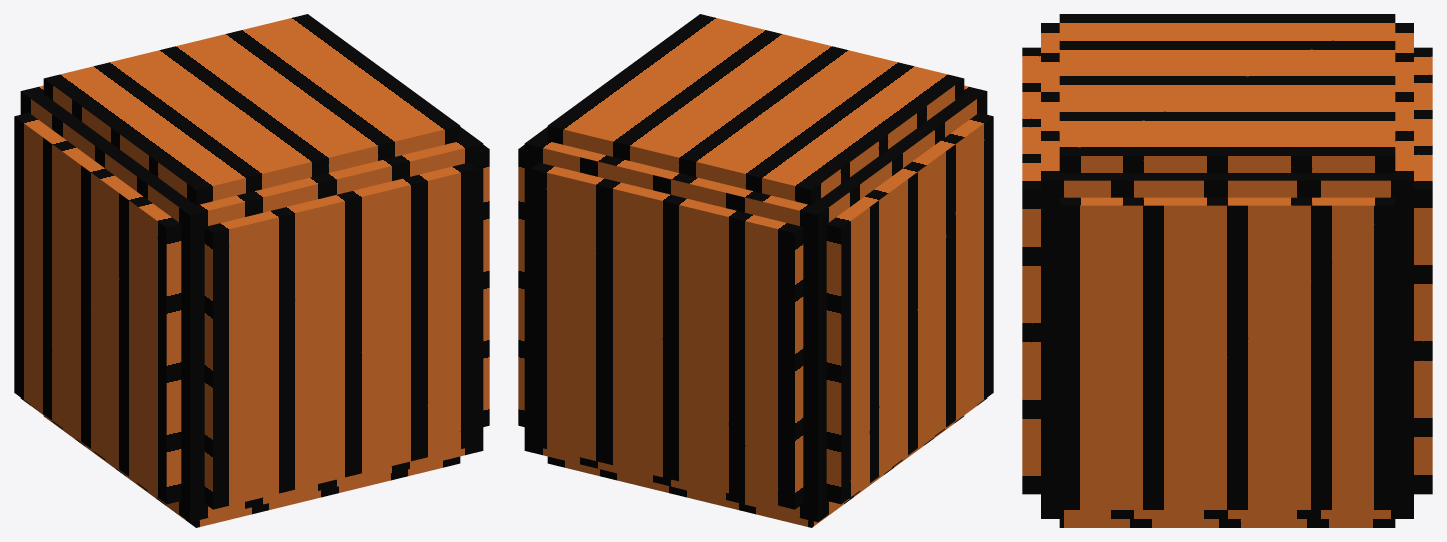
The picture shows the model from 3 angles, left to right: view 1: azimuth 30°, elevation 25°; view 2: azimuth 150°, elevation 25°; view 3: azimuth 270°, elevation 25°; orthographic projection. The views are drawn at different scales.
Visible parts, largest first — view 1: 46310ce6-0090-29da-2c45-68f924dabc51, 73764fa6-75b9-6fe9-bd2f-9edddea83ac4, 6acc0fb2-7f3f-5a4f-002c-e7ccaba8883f, 7a0d48c4-f3f0-e04f-9e3e-693328f9aa65, 921b7654-6468-6b42-08cd-32c1223ebb15, 8442a8ef-1a82-1a3a-1071-af40f7cec99f; view 2: 84be3d6f-64d2-bcd2-365b-f25e3a637cf4, 73764fa6-75b9-6fe9-bd2f-9edddea83ac4, 6acc0fb2-7f3f-5a4f-002c-e7ccaba8883f, 7a0d48c4-f3f0-e04f-9e3e-693328f9aa65, 921b7654-6468-6b42-08cd-32c1223ebb15, 8442a8ef-1a82-1a3a-1071-af40f7cec99f; view 3: 8442a8ef-1a82-1a3a-1071-af40f7cec99f, 6acc0fb2-7f3f-5a4f-002c-e7ccaba8883f, 7a0d48c4-f3f0-e04f-9e3e-693328f9aa65, 46310ce6-0090-29da-2c45-68f924dabc51, 84be3d6f-64d2-bcd2-365b-f25e3a637cf4, 921b7654-6468-6b42-08cd-32c1223ebb15.
Part boxes in pixels (box(x1,y1,x2,y2)): 46310ce6-0090-29da-2c45-68f924dabc51: box(204, 162, 477, 509); 73764fa6-75b9-6fe9-bd2f-9edddea83ac4: box(14, 113, 181, 504); 6acc0fb2-7f3f-5a4f-002c-e7ccaba8883f: box(43, 14, 460, 205); 7a0d48c4-f3f0-e04f-9e3e-693328f9aa65: box(20, 85, 483, 522); 921b7654-6468-6b42-08cd-32c1223ebb15: box(43, 415, 460, 527); 8442a8ef-1a82-1a3a-1071-af40f7cec99f: box(483, 145, 489, 426); 84be3d6f-64d2-bcd2-365b-f25e3a637cf4: box(530, 162, 803, 509); 73764fa6-75b9-6fe9-bd2f-9edddea83ac4: box(826, 113, 993, 504); 6acc0fb2-7f3f-5a4f-002c-e7ccaba8883f: box(547, 14, 964, 205); 7a0d48c4-f3f0-e04f-9e3e-693328f9aa65: box(524, 85, 987, 522); 921b7654-6468-6b42-08cd-32c1223ebb15: box(547, 415, 964, 527); 8442a8ef-1a82-1a3a-1071-af40f7cec99f: box(518, 145, 524, 426); 8442a8ef-1a82-1a3a-1071-af40f7cec99f: box(1059, 197, 1395, 509); 6acc0fb2-7f3f-5a4f-002c-e7ccaba8883f: box(1059, 14, 1395, 172); 7a0d48c4-f3f0-e04f-9e3e-693328f9aa65: box(1041, 23, 1413, 518); 46310ce6-0090-29da-2c45-68f924dabc51: box(1022, 47, 1040, 494); 84be3d6f-64d2-bcd2-365b-f25e3a637cf4: box(1414, 47, 1432, 494); 921b7654-6468-6b42-08cd-32c1223ebb15: box(1059, 519, 1395, 527).
Size of the model in its own units: 4.4 by 4.4 by 4.4.
2 materials, 2 textured.
